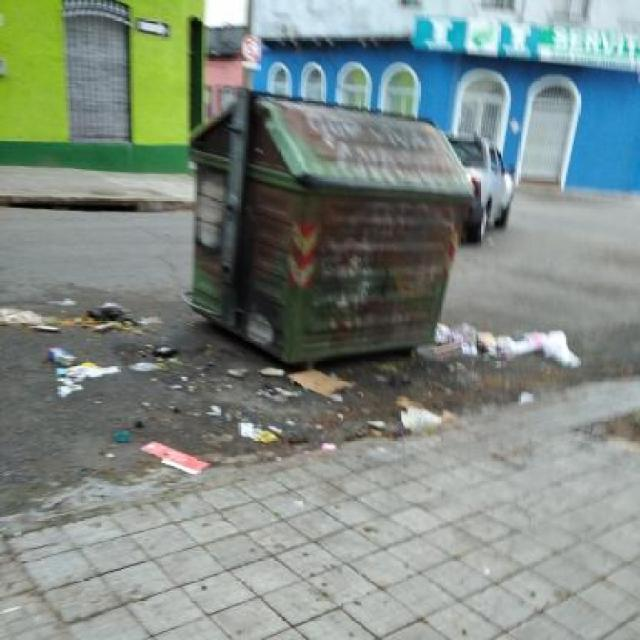garbage: (0, 268, 262, 499), (268, 365, 515, 462), (429, 312, 626, 376)
